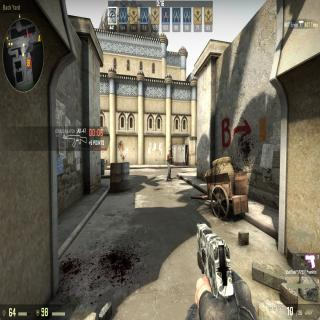T-Body: (166, 147, 172, 181)
T-Head: (168, 148, 172, 153)
